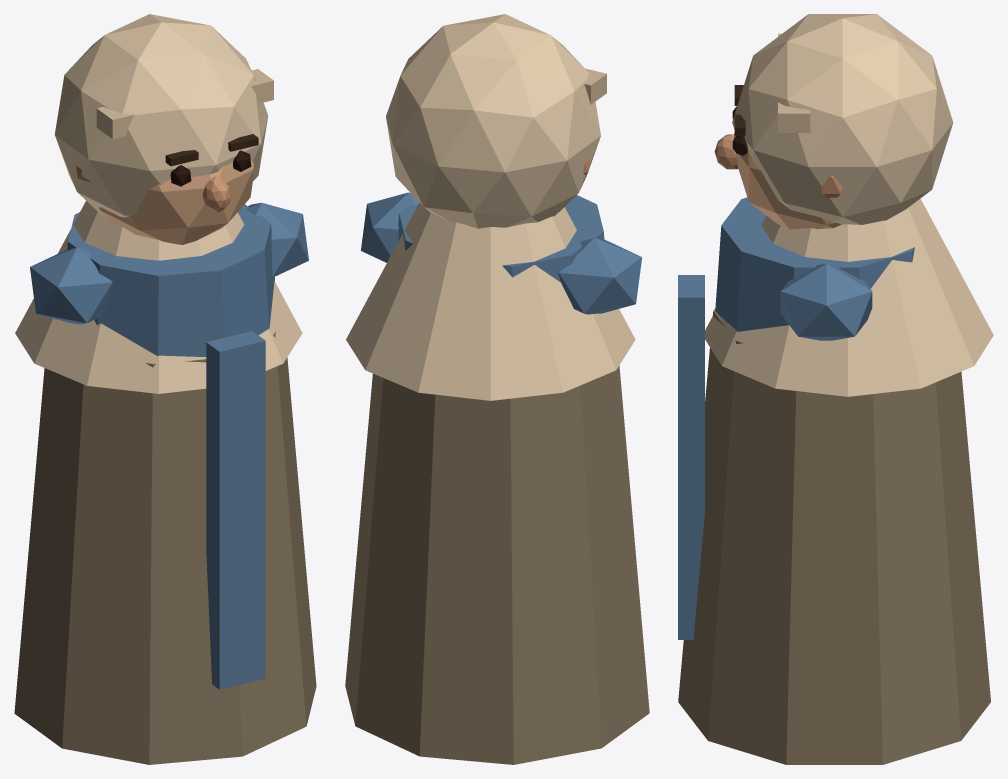
Rendered from insan_k2s_govde.glb.
3 renders of one model, left to right at view 1: azimuth 30°, elevation 25°; view 2: azimuth 150°, elevation 25°; view 3: azimuth 270°, elevation 25°, orthographic.
Parts seen in each view (by area): view 1: Cone; view 2: Cone; view 3: Cone.
Part boxes in pixels (<box>): Cone: <box>14,14,316,764</box>; Cone: <box>345,14,649,764</box>; Cone: <box>678,14,993,764</box>.
Bounding box in the file's own units: 0.1158 × 0.2796 × 0.117.
